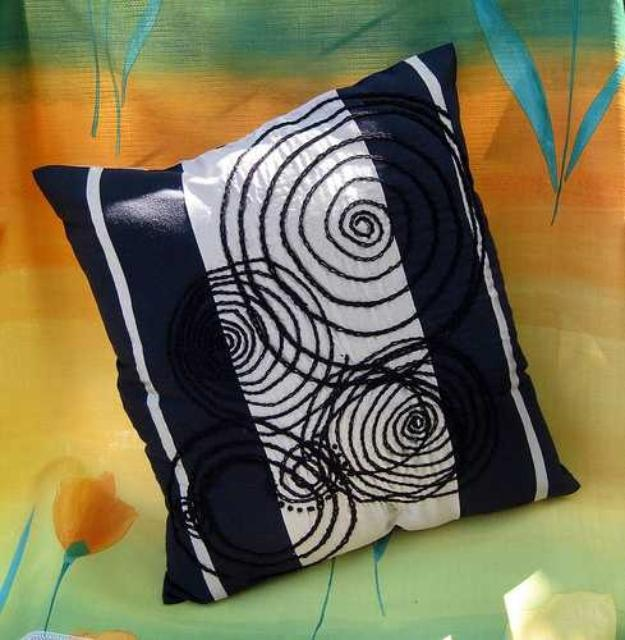pillow: (32, 40, 582, 604)
